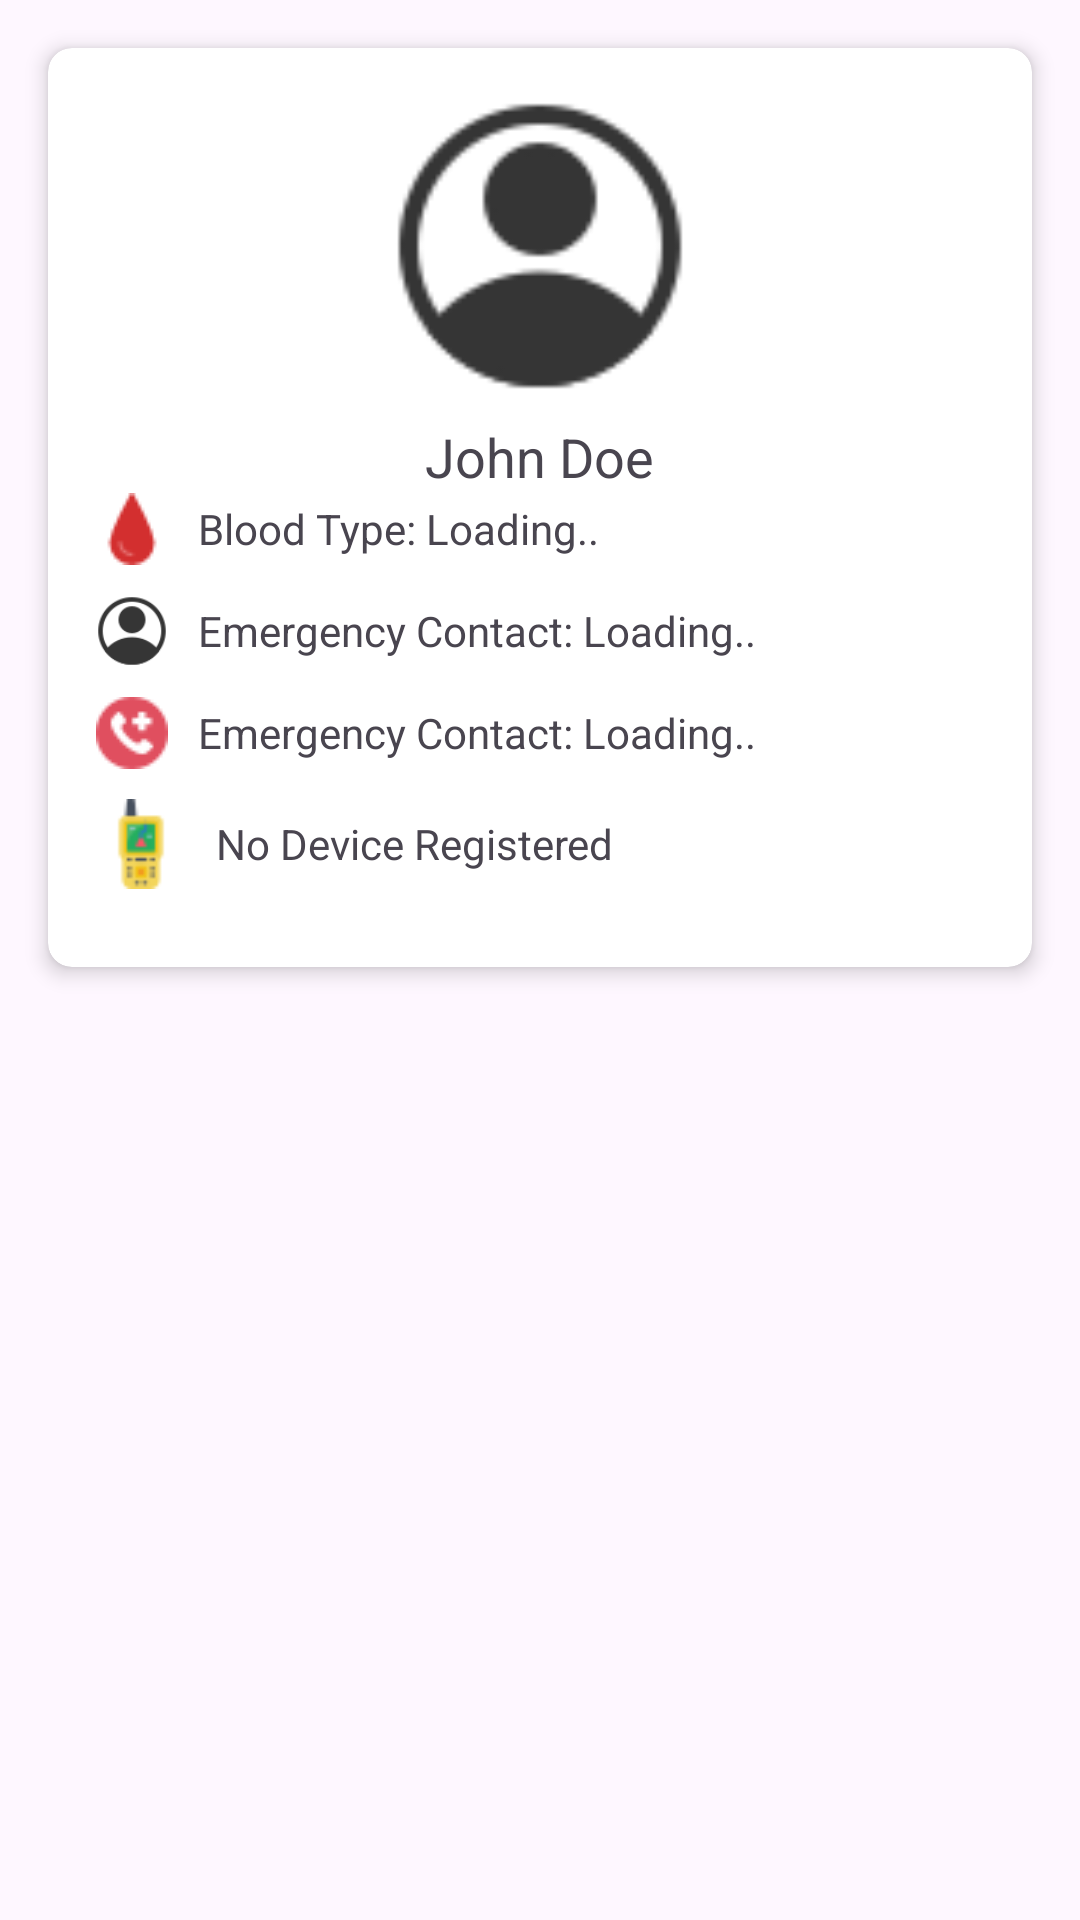

Where icons sit on this 1080px×1920px app screen, as (x1, y1, x2, y2):
account: (398, 104, 682, 388), (98, 597, 166, 665)
blooddrop: (107, 493, 157, 565)
emergencycall: (96, 697, 168, 769)
